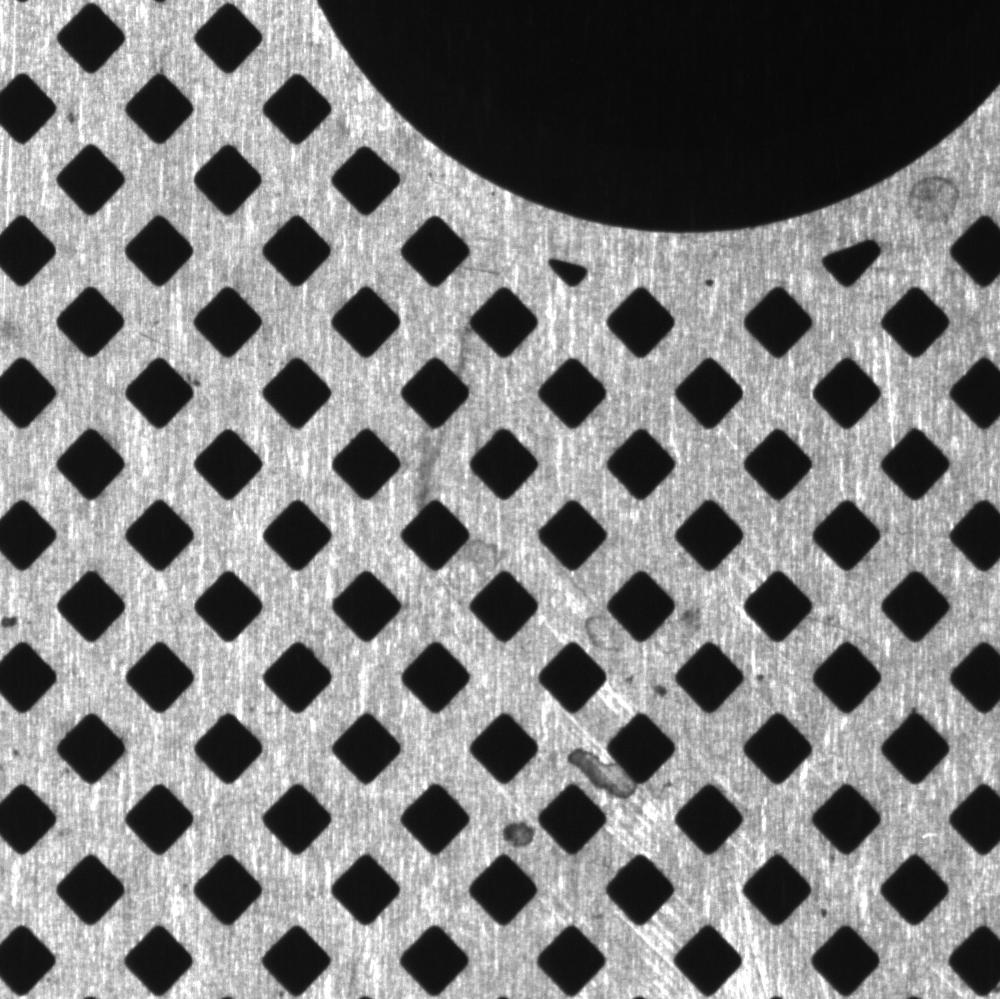Discolor: (901, 166, 974, 236), (562, 741, 646, 801), (401, 421, 451, 506), (445, 307, 491, 382), (576, 608, 638, 658), (660, 601, 706, 654), (498, 805, 540, 857)
